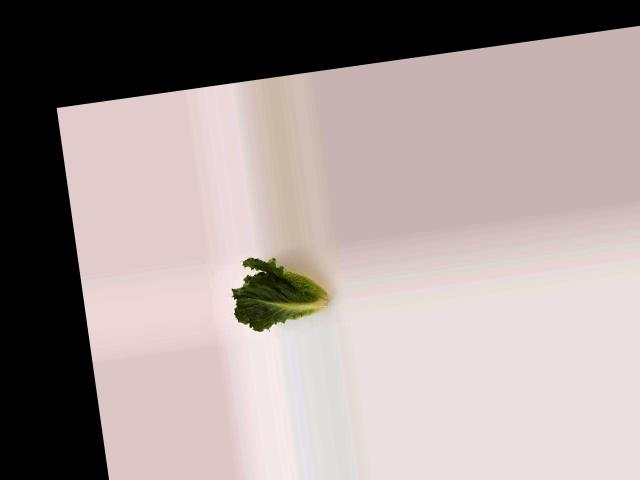lettuce: (224, 250, 342, 337)
